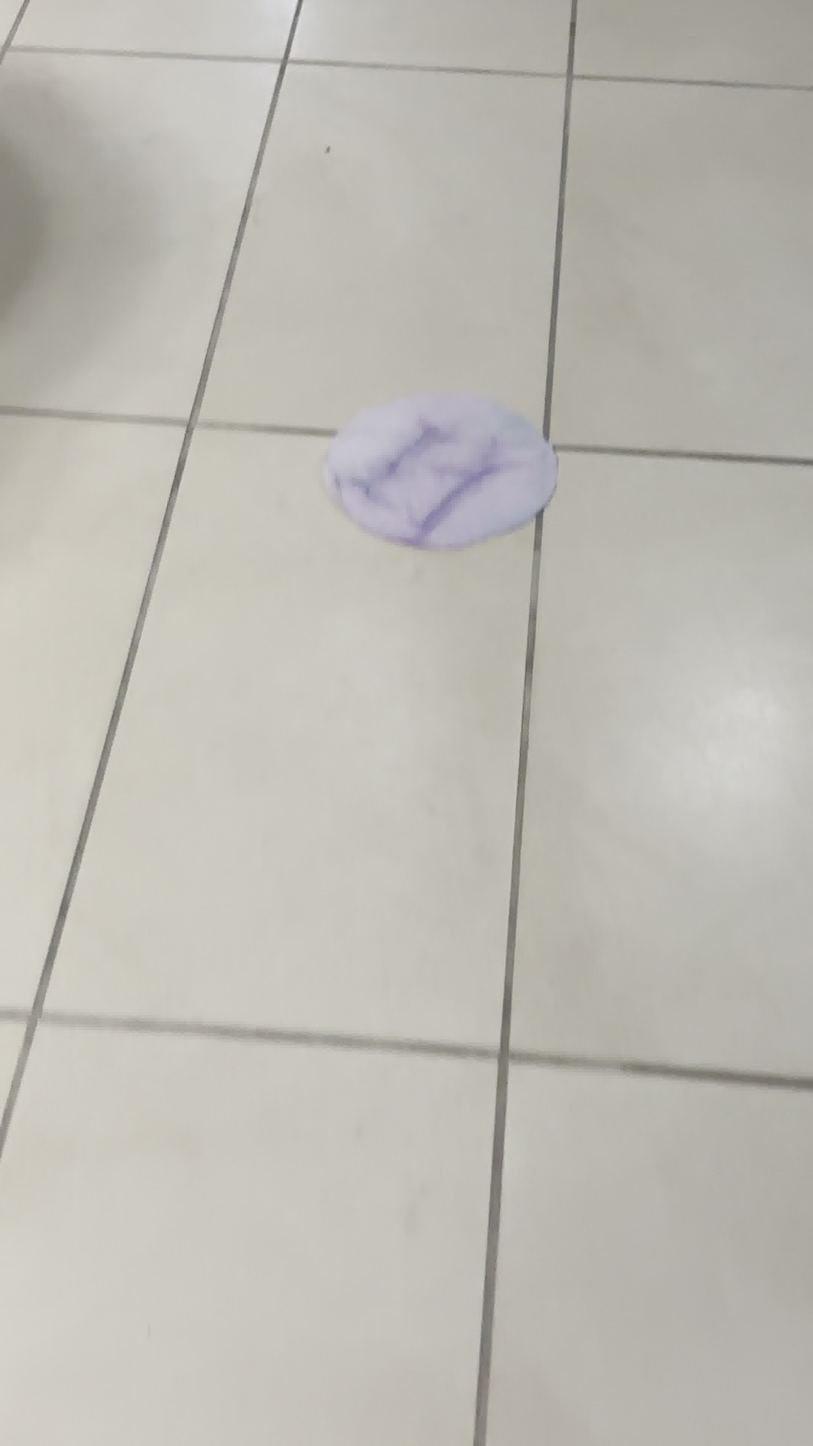Target: (320, 395, 564, 551)
